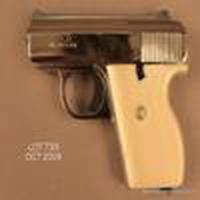gun: (30, 11, 191, 191)
